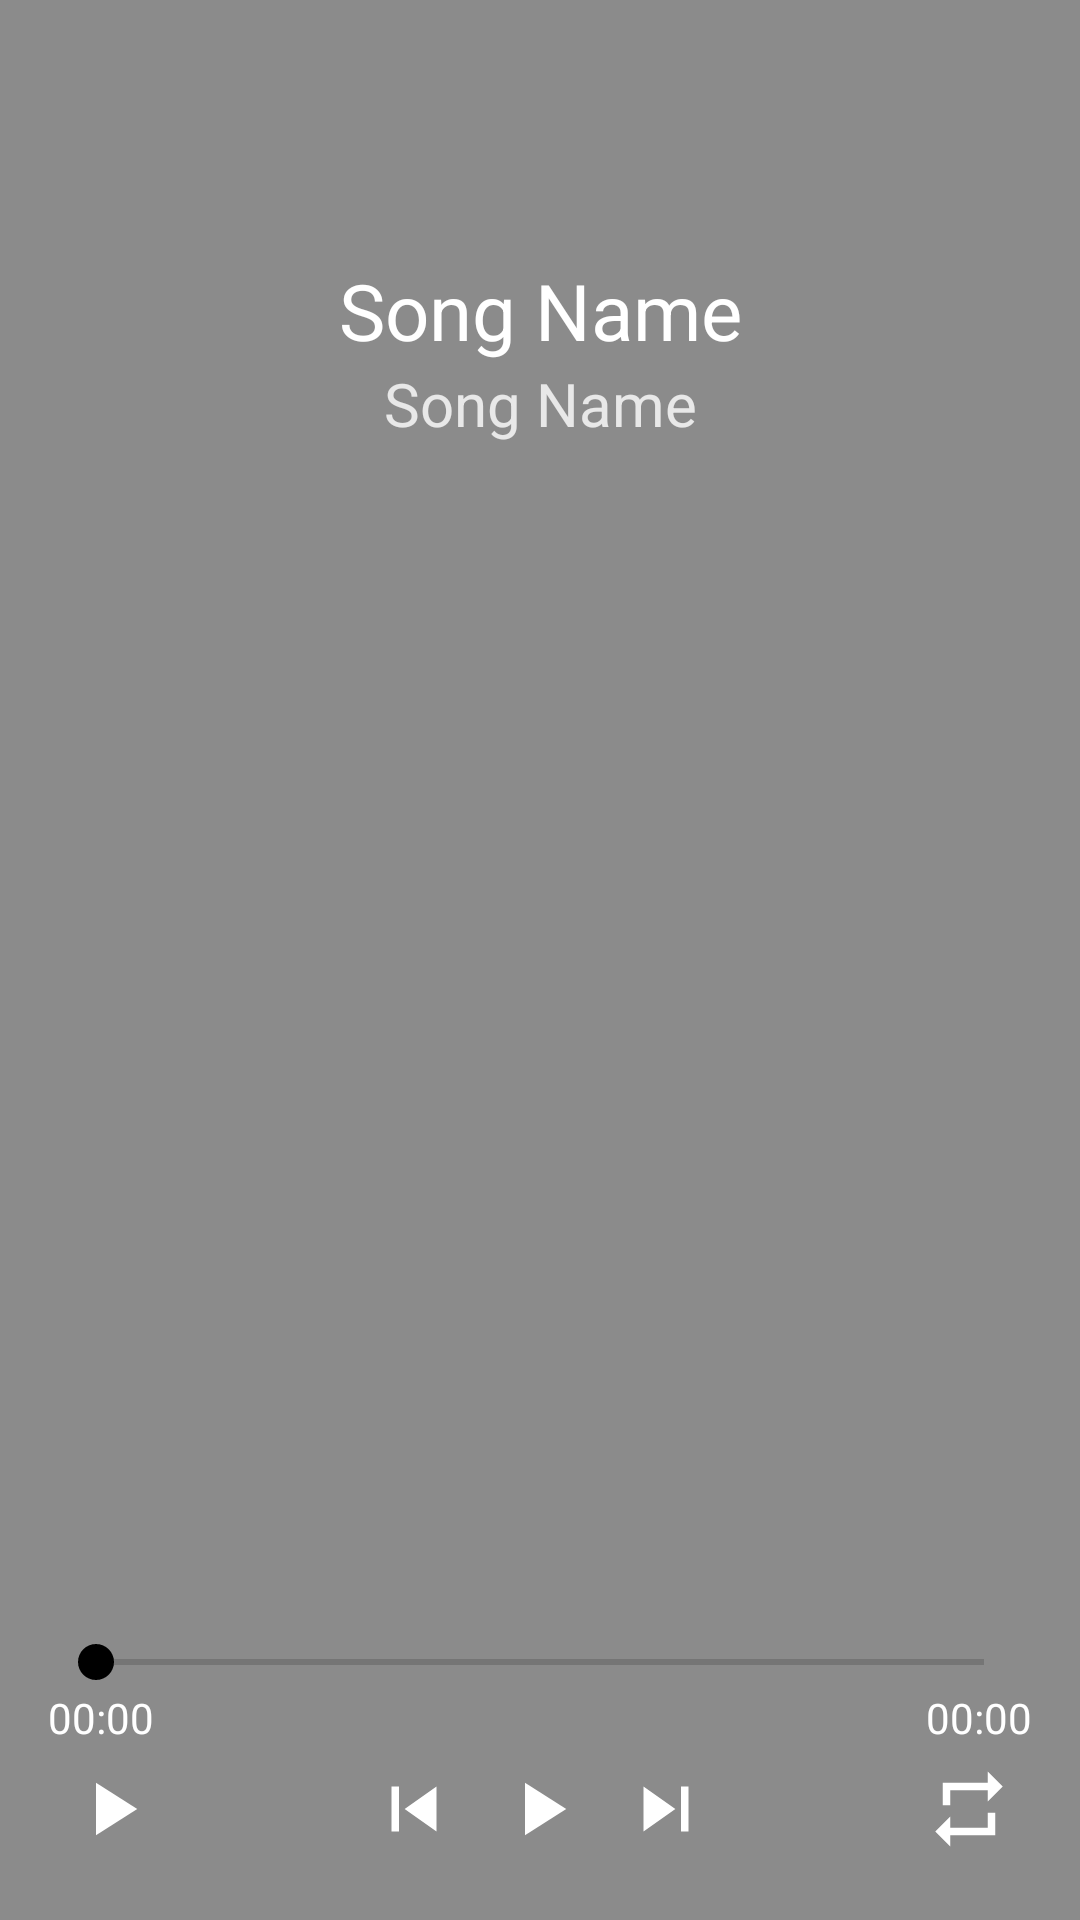

Point at icon controls on the screen. Image size 1080*1920, points as (x,y).
play arrow: (116,1809), (545,1809)
repeat: (969,1809)
skip next: (666,1809)
skip previous: (414,1809)
